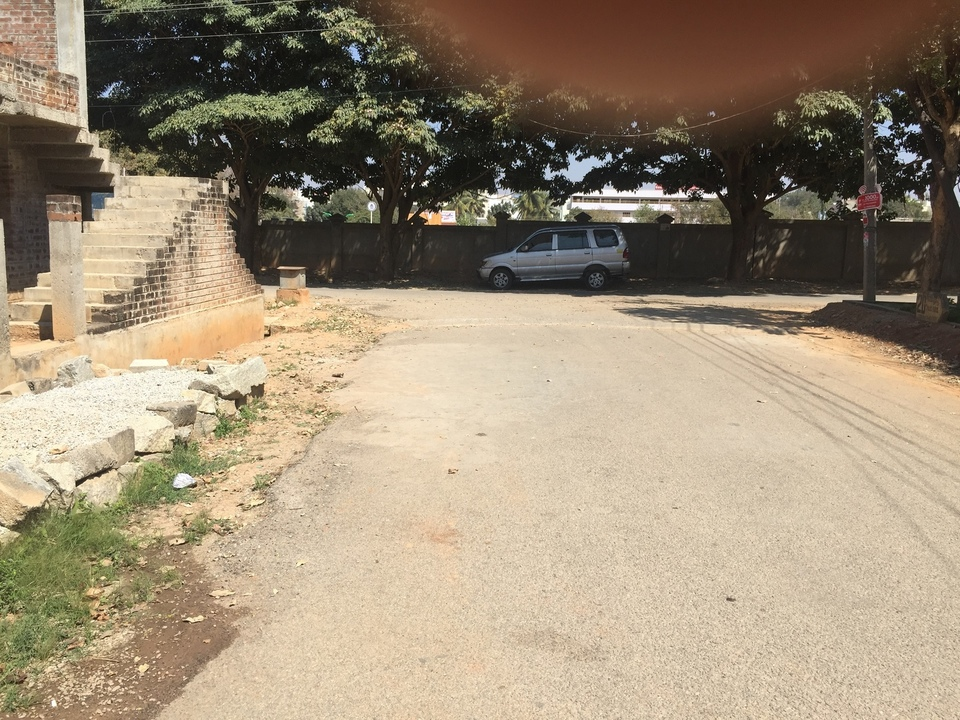bump: (381, 322, 844, 340)
